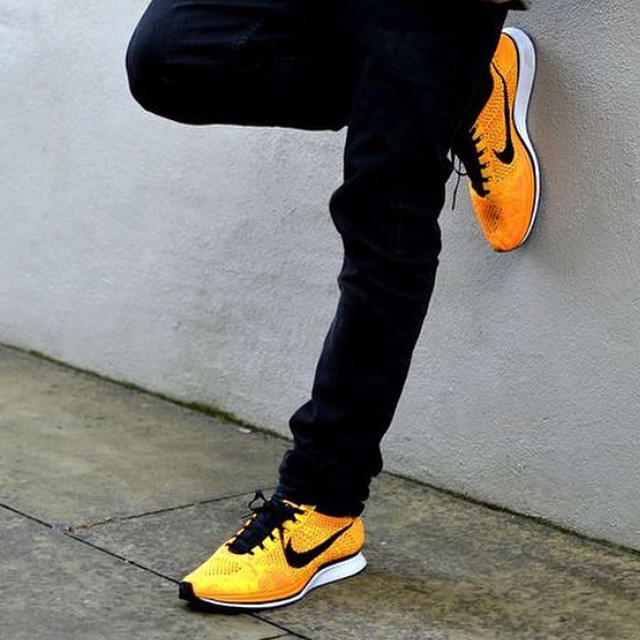sneaker: (165, 471, 389, 625), (435, 8, 559, 266)
